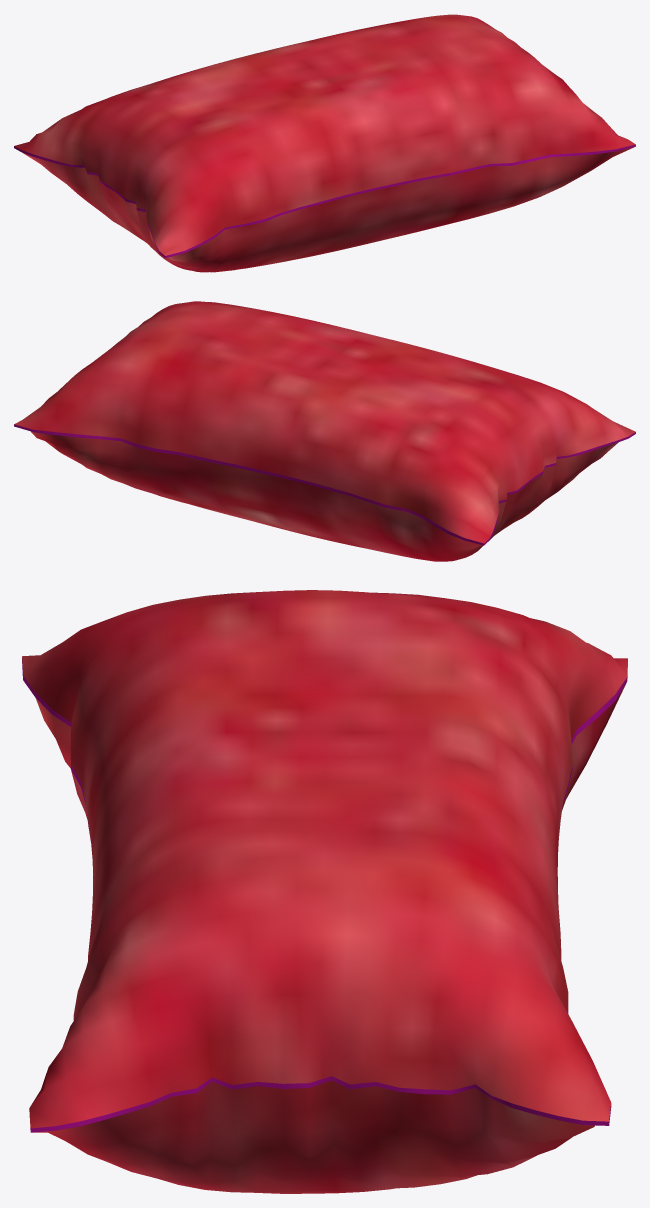
Rendered from pillow.obj.
3 renders of one model, top to bottom at view 1: azimuth 30°, elevation 25°; view 2: azimuth 150°, elevation 25°; view 3: azimuth 270°, elevation 25°, orthographic. The views are drawn at different scales.
Visible parts, largest first — view 1: pasted__Pillow group7; view 2: pasted__Pillow group7; view 3: pasted__Pillow group7.
Part boxes in pixels (box(x1,y1,x2,y2)): pasted__Pillow group7: box(14, 14, 635, 272); pasted__Pillow group7: box(14, 301, 635, 561); pasted__Pillow group7: box(22, 590, 627, 1193).
Size of the model in its own units: 49.98 by 17.57 by 27.62.
Materials: 2 (1 with a texture image).
